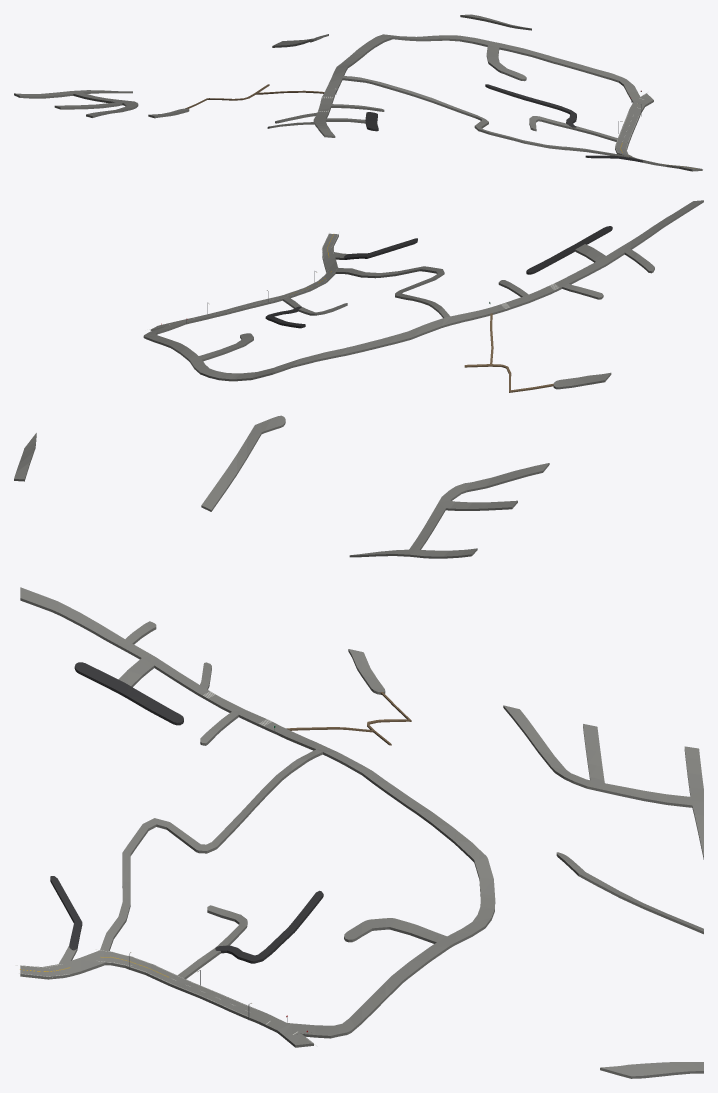
Rendered from 17-109439-59475.c427dba0.glb.
3 renders of one model, top to bottom at view 1: azimuth 30°, elevation 25°; view 2: azimuth 150°, elevation 25°; view 3: azimuth 270°, elevation 25°, orthographic. The views are drawn at different scales.
Size of the model in its own units: 296 by 108 by 294.
